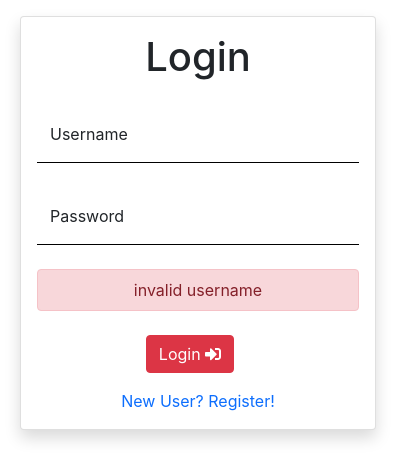
Test: Login Tests › should check for invalid password error
In the field labelled "Username": coordinates (198, 134) [37,105,359,163], type "testuser"
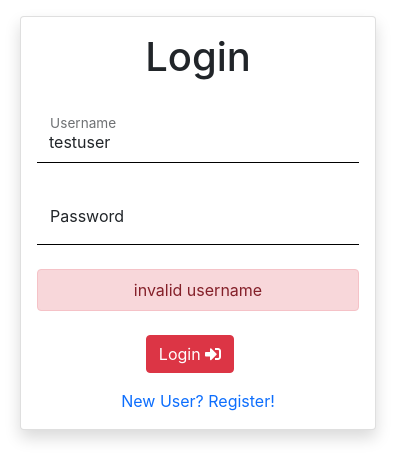
In the password field labelled "Password": coordinates (198, 216) [37,187,359,245], type "something"
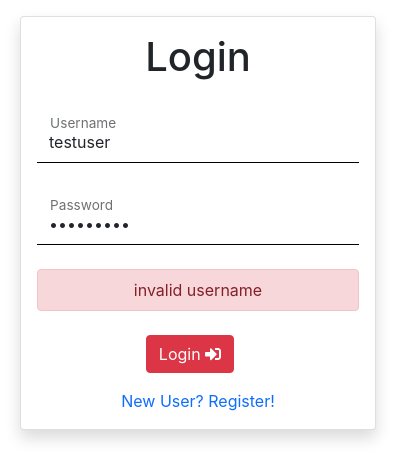
Click the button "Login": coordinates (190, 354) [146,335,234,373]
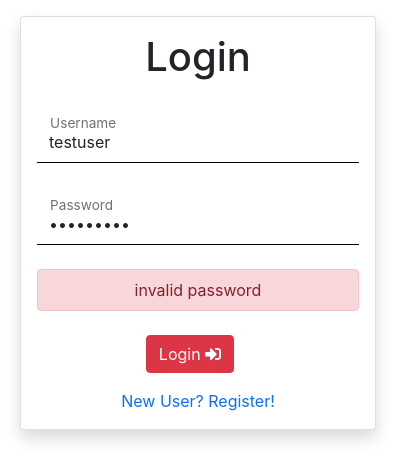
Expected: the text "invalid password" is shown, [37,269,359,311]
